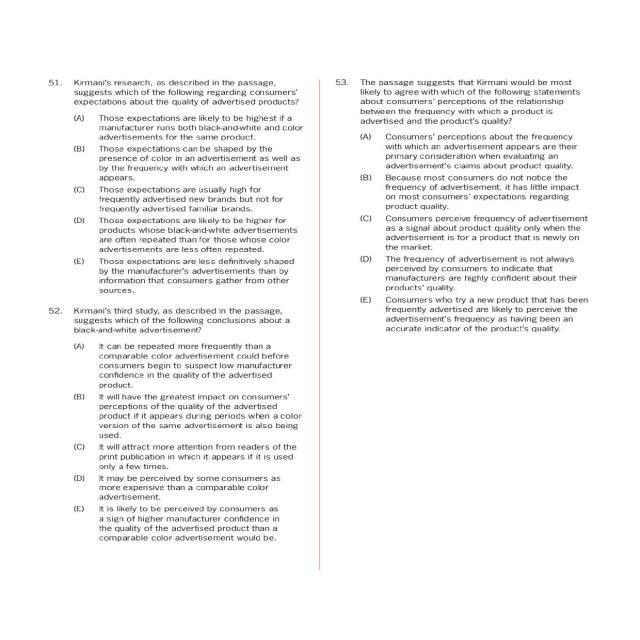Answer_Block: (326, 128, 601, 344), (35, 338, 310, 549), (35, 112, 310, 298)
Question_Answer_Block: (326, 76, 601, 344), (35, 302, 310, 549), (35, 75, 310, 298)
Question_Block: (326, 76, 601, 130), (35, 302, 310, 338), (35, 76, 310, 111)
Question_Paper_Area: (35, 76, 310, 549), (326, 76, 601, 549)
